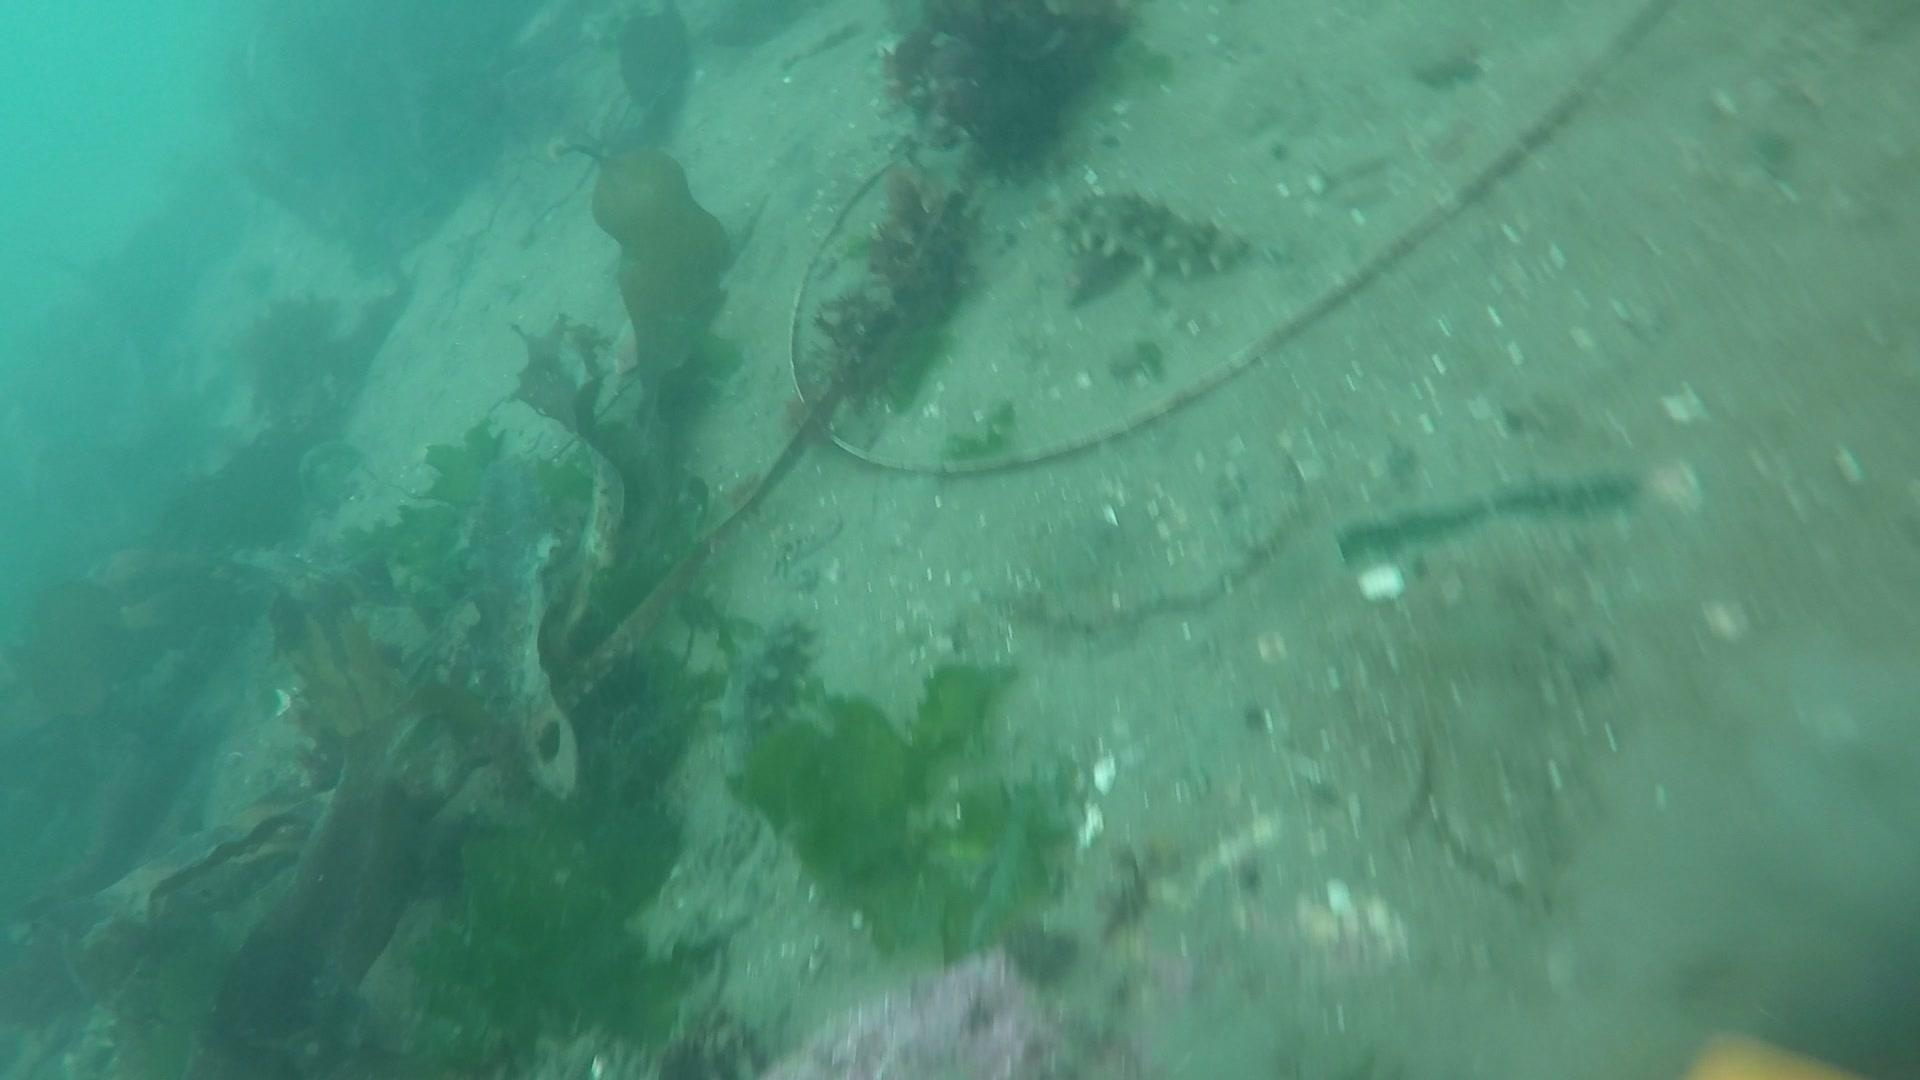holothurian: (1048, 181, 1266, 291)
